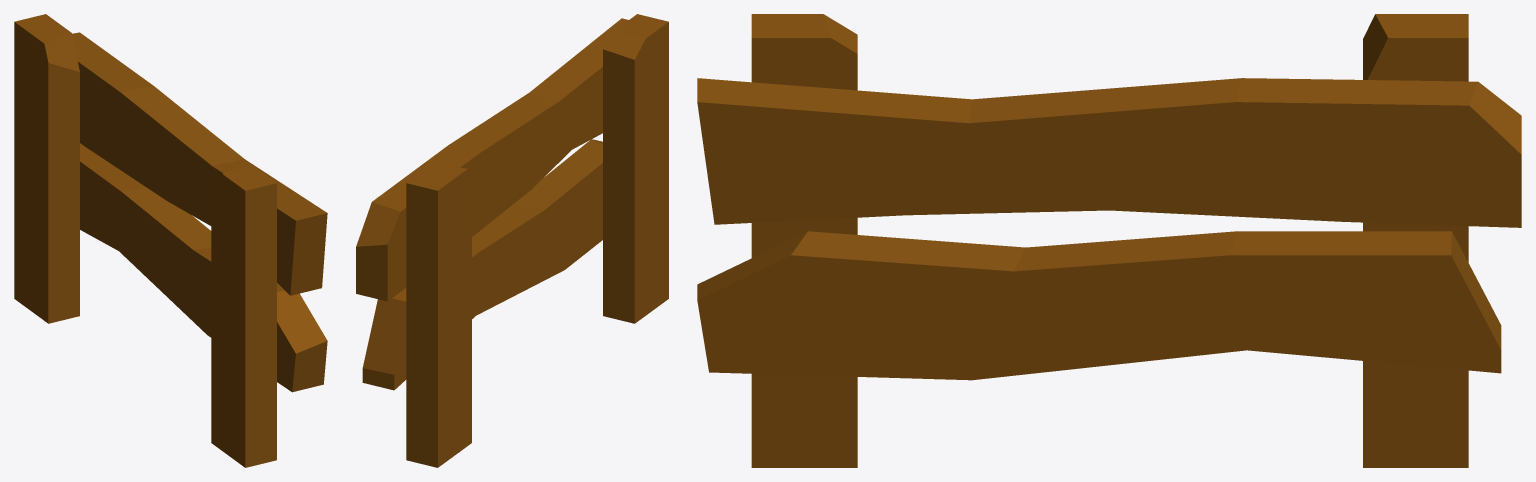
The model's file is fences05.glb.
3 renders of one model, left to right at view 1: azimuth 30°, elevation 25°; view 2: azimuth 150°, elevation 25°; view 3: azimuth 270°, elevation 25°, orthographic. The views are drawn at different scales.
Visible parts, largest first — view 1: Cube; view 2: Cube; view 3: Cube.
Part boxes in pixels (bbox=[...]): Cube: bbox=[14, 14, 327, 467]; Cube: bbox=[356, 14, 668, 467]; Cube: bbox=[697, 14, 1521, 467].
Bounding box in the file's own units: 0.3935 × 1.5 × 2.61.
